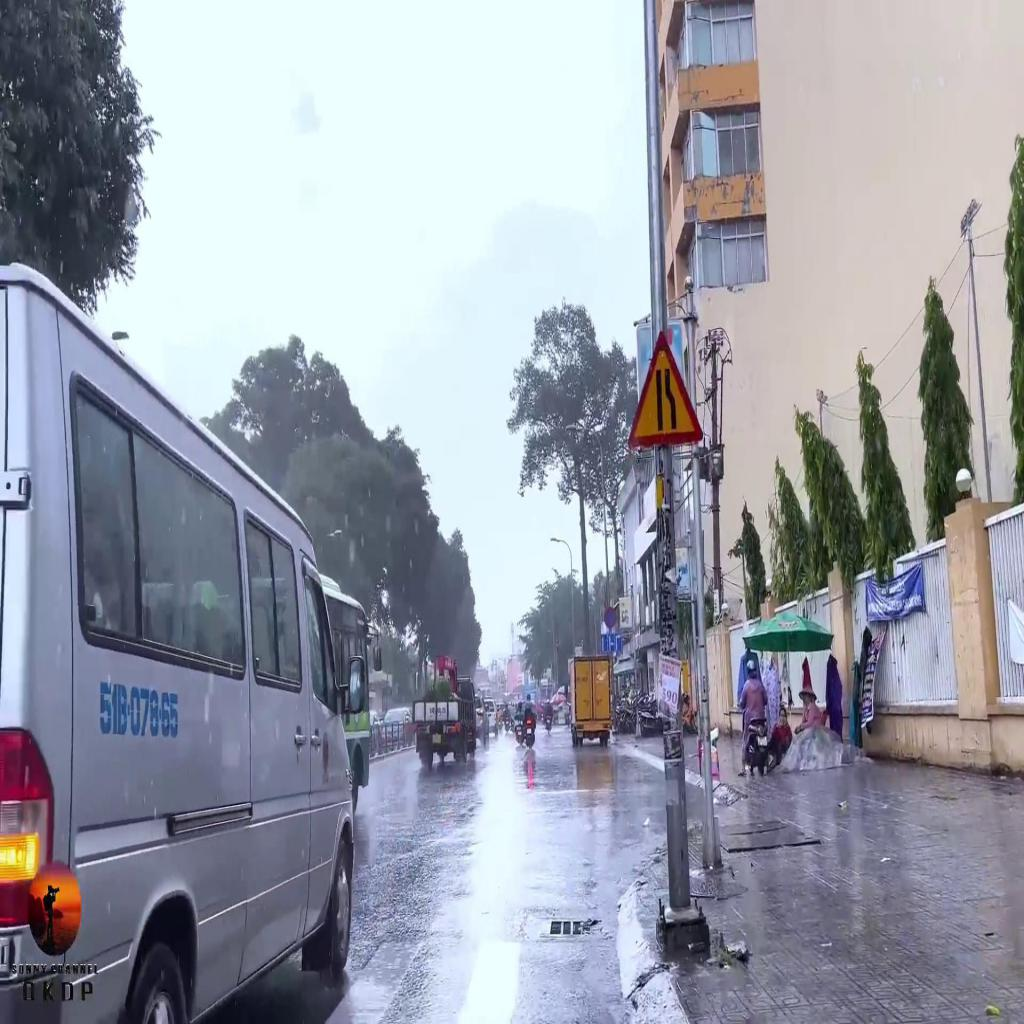cam_dung_xe_va_do_xe: (604, 606, 617, 628)
huong_di_tren_moi_lan_duong_theo_vach_ke_duong: (601, 634, 622, 652)
object: (627, 328, 706, 448)
